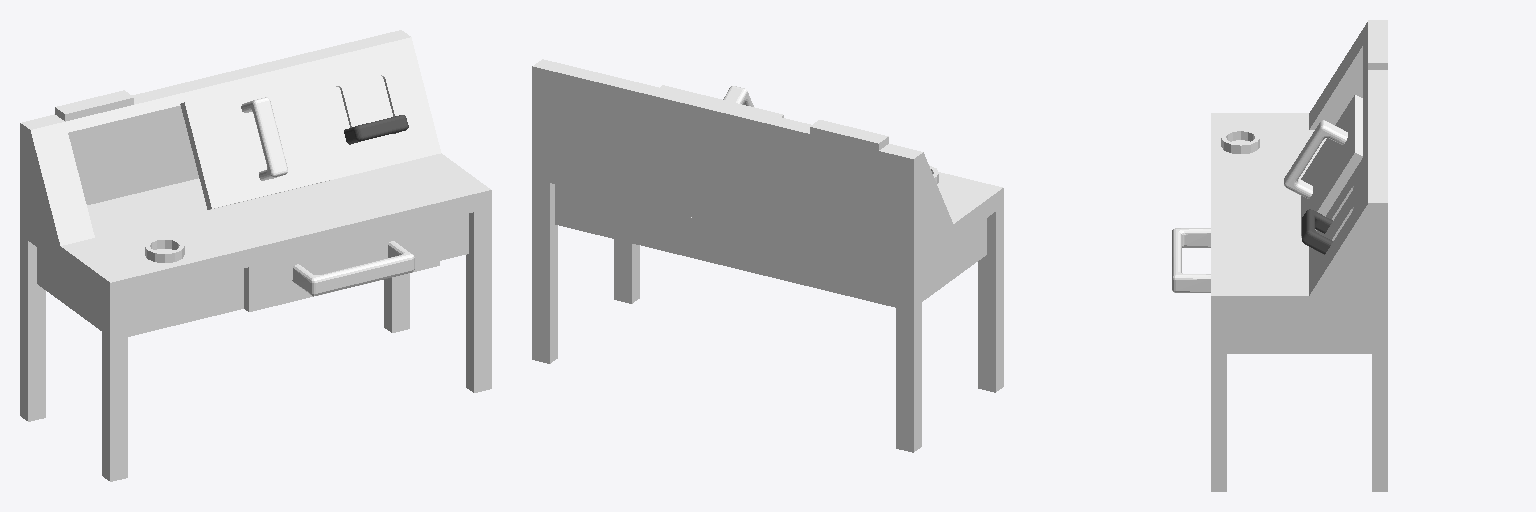
URDF robot description (playtable_7):
<?xml version="1.0" encoding="utf-8"?>
<robot
  name="playtable_7" concave="yes">
  <link
    name="base_link">
    <inertial>
      <origin
        xyz="0.00745063057322709 0.501032855485917 -0.0450543406685957"
        rpy="0 0 0" />
      <mass
        value="0.0" />
        <!-- value="46.9509300649509" -->
      <inertia
        ixx="1.52184000058477"
        ixy="-0.214863046017298"
        ixz="0.227217239283853"
        iyy="6.72628663734324"
        iyz="0.279082713309663"
        izz="6.54762965481542" />
    </inertial>
    <visual>
      <origin
        xyz="0 0 0"
        rpy="0 0 0" />
      <geometry>
        <mesh
          filename="../meshes/base_link.obj" />
      </geometry>
      <material name="white">
       <color rgba="1 1 1 1"/>
     </material>
    </visual>
    <collision concave="yes">
      <origin
        xyz="0 0 0"
        rpy="0 0 0" />
      <geometry>
        <mesh
          filename="../meshes/base_link.obj" />
      </geometry>
    </collision>
  </link>
  <link
    name="button_link">
    <inertial>
      <origin
        xyz="0 0.0149999999999999 -2.77555756156289E-17"
        rpy="0 0 0" />
      <mass
        value="0.153812376319756" />
      <inertia
        ixx="7.30608787518843E-05"
        ixy="-1.78342506783922E-37"
        ixz="0"
        iyy="0.000123049901055805"
        iyz="-3.74688824324604E-37"
        izz="7.30608787518843E-05" />
    </inertial>
    <visual>
      <origin
        xyz="0 0 0"
        rpy="0 0 0" />
      <geometry>
        <mesh
          filename="../meshes/button_link.STL" />
      </geometry>
      <material
        name="black">
        <color
          rgba="0.0 0.0 0.0 1" />
      </material>
    </visual>
    <collision>
      <origin
        xyz="0 0 0"
        rpy="0 0 0" />
      <geometry>
        <mesh
          filename="../meshes/button_link.STL" />
      </geometry>
    </collision>
  </link>
  <joint
    name="base__button"
    type="prismatic">
    <origin
      xyz="-0.35 -0.15 0.575"
      rpy="1.5708 0 0" />
    <parent
      link="base_link" />
    <child
      link="button_link" />
    <axis
      xyz="0 -1 0" />
    <limit
      lower="0"
      upper="0.025"
      effort="0"
      velocity="0" />
  </joint>
  <link
    name="switch_link">
    <inertial>
      <origin
        xyz="0 0.0501954388893268 -0.01"
        rpy="0 0 0" />
      <mass
        value="0.238786703751891" />
      <inertia
        ixx="0.000149903694690068"
        ixy="3.28770495998159E-20"
        ixz="-5.1773084532825E-21"
        iyy="0.000673716537106872"
        iyz="2.98155597433514E-19"
        izz="0.000767827685519096" />
    </inertial>
    <visual>
      <origin
        xyz="0 0 0"
        rpy="0 0 0" />
      <geometry>
        <mesh
          filename="../meshes/switch_link.obj" />
      </geometry>
      <material
        name="gray">
        <color
          rgba="0.4 0.4 0.4 1" />
      </material>
    </visual>
    <collision>
      <origin
        xyz="0 0 0"
        rpy="0 0 0" />
      <geometry>
        <mesh
          filename="../meshes/switch_link_vhacd2.obj" />
      </geometry>
    </collision>
  </link>
  <joint
    name="base__switch"
    type="prismatic">
    <origin
      xyz="0.375 0.07616 0.61861"
      rpy="2.618 0 0" />
    <parent
      link="base_link" />
    <child
      link="switch_link" />
    <axis
      xyz="0 0 -1" />
    <limit
      lower="0"
      upper="0.11"
      effort="0"
      velocity="0" />
  </joint>
  <link
    name="slide_link">
    <inertial>
      <origin
        xyz="-0.175 -1.11022302462516E-16 0.0204147302446787"
        rpy="0 0 0" />
      <mass
        value="1.54349139995684" />
      <inertia
        ixx="0.0102407243866408"
        ixy="-4.48575347047733E-19"
        ixz="6.96428867235757E-21"
        iyy="0.0146074020666347"
        iyz="-2.34187669256869E-17"
        izz="0.0232176606837711" />
    </inertial>
    <visual>
      <origin
        xyz="0 0 0"
        rpy="0 0 0" />
      <geometry>
        <mesh
          filename="../meshes/slide_link.obj" />
      </geometry>
      <material name="white">
       <color rgba="1 1 1 1"/>
     </material>
    </visual>
    <collision>
      <origin
        xyz="0 0 0"
        rpy="0 0 0" />
      <geometry>
        <mesh
          filename="../meshes/slide_link_vhacd2.obj" />
      </geometry>
    </collision>
  </link>
  <joint
    name="base__slide"
    type="prismatic">
    <origin
      xyz="-0.125 0.09375 0.66908"
      rpy="1.0472 0 0" />
    <parent
      link="base_link" />
    <child
      link="slide_link" />
    <axis
      xyz="-1 0 0" />
    <limit
      lower="0"
      upper="0.35"
      effort="0"
      velocity="0" />
  </joint>
  <link
    name="drawer_link">
    <inertial>
      <origin
        xyz="5.55111512312578E-17 0.0331980542710631 0.0988554042464424"
        rpy="0 0 0" />
      <mass
        value="4.23128077824699" />
      <inertia
        ixx="0.059216774525043"
        ixy="-1.55846308856457E-18"
        ixz="-2.21550744838959E-18"
        iyy="0.16375258619816"
        iyz="-4.16732706455153E-05"
        izz="0.11199026473436" />
    </inertial>
    <visual>
      <origin
        xyz="0 0 0"
        rpy="0 0 0" />
      <geometry>
        <mesh
          filename="../meshes/drawer_link.obj" />
      </geometry>
      <material name="white">
       <color rgba="1 1 1 1"/>
     </material>
    </visual>
    <collision>
      <origin
        xyz="0 0 0"
        rpy="0 0 0" />
      <geometry>
        <mesh
          filename="../meshes/drawer_link_vhacd2.obj" />
      </geometry>
    </collision>
  </link>
  <joint
    name="base__drawer"
    type="prismatic">
    <origin
      xyz="0.125 0 0.4"
      rpy="1.5708 0 0" />
    <parent
      link="base_link" />
    <child
      link="drawer_link" />
    <axis
      xyz="0 0 1" />
    <limit
      lower="0"
      upper="0.275"
      effort="0"
      velocity="0" />
  </joint>
  <link
    name="led_link">
    <inertial>
      <origin
        xyz="5.55111512312578E-17 0.01 0"
        rpy="0 0 0" />
      <mass
        value="0.204" />
      <inertia
        ixx="4.93E-05"
        ixy="-4.05952398432885E-21"
        ixz="1.06441548283764E-20"
        iyy="0.000722500000000001"
        iyz="4.27379440245252E-37"
        izz="0.000686800000000001" />
    </inertial>
    <visual>
      <origin
        xyz="0 0 0"
        rpy="0 0 0" />
      <geometry>
        <mesh
          filename="../meshes/led_link.STL" />
      </geometry>
      <material
        name="white">
        <color
          rgba="1 1 1 1" />
      </material>
    </visual>
    <collision>
      <origin
        xyz="0 0 0"
        rpy="0 0 0" />
      <geometry>
        <mesh
          filename="../meshes/led_link.STL" />
      </geometry>
    </collision>
  </link>
  <joint
    name="base__led"
    type="fixed">
    <origin
      xyz="-0.35 0.2 0.80981"
      rpy="1.5708 0 0" />
    <parent
      link="base_link" />
    <child
      link="led_link" />
    <axis
      xyz="0 0 0" />
    <limit
      lower="0"
      upper="0"
      effort="0"
      velocity="0" />
  </joint>
  <link
    name="light_link">
    <inertial>
      <origin
        xyz="0 0.0280266379242365 -0.035"
        rpy="0 0 0" />
      <mass
        value="0.173918312098126" />
      <inertia
        ixx="8.23031895831843E-05"
        ixy="1.45149564099263E-22"
        ixz="4.04382946355205E-38"
        iyy="8.738048875184E-05"
        iyz="8.02658189462509E-38"
        izz="8.23031895831843E-05" />
    </inertial>
    <visual>
      <origin
        xyz="0 0 0"
        rpy="0 0 0" />
      <geometry>
        <mesh
          filename="../meshes/light_link.STL" />
      </geometry>
      <material
        name="white">
        <color
          rgba="1 1 1 1" />
      </material>
    </visual>
    <collision>
      <origin
        xyz="0 0 0"
        rpy="0 0 0" />
      <geometry>
        <mesh
          filename="../meshes/light_link.STL" />
      </geometry>
    </collision>
  </link>
  <joint
    name="base__light"
    type="fixed">
    <origin
      xyz="0.375 0.165 0.80981"
      rpy="1.5708 0 0" />
    <parent
      link="base_link" />
    <child
      link="light_link" />
    <axis
      xyz="0 0 0" />
  </joint>
  <link
    name="plank_link">
    <inertial>
      <origin
        xyz="5.55111512312578E-17 0.0125 0"
        rpy="0 0 0" />
      <mass
        value="2.84375" />
      <inertia
        ixx="0.00740559895833334"
        ixy="9.9836950049708E-20"
        ixz="8.52905709021932E-19"
        iyy="0.107381184895833"
        iyz="1.88079096131566E-34"
        izz="0.100271809895833" />
    </inertial>
    <visual>
      <origin
        xyz="0 0 0"
        rpy="0 0 0" />
      <geometry>
        <mesh
          filename="../meshes/plank_link.obj" />
      </geometry>
      <material name="white">
       <color rgba="1 1 1 1"/>
     </material>
    </visual>
    <collision>
      <origin
        xyz="0 0 0"
        rpy="0 0 0" />
      <geometry>
        <mesh
          filename="../meshes/plank_link.obj" />
      </geometry>
    </collision>
  </link>
  <joint
    name="base__plank"
    type="fixed">
    <origin
      xyz="-0.125 0.1125 0.525"
      rpy="1.5708 0 0" />
    <parent
      link="base_link" />
    <child
      link="plank_link" />
    <axis
      xyz="0 0 0" />
  </joint>
</robot>

--- Render facts (derived) ---
3 views of the same robot in one strip: view 1: azimuth 30°, elevation 25°; view 2: azimuth 150°, elevation 25°; view 3: azimuth 270°, elevation 25° (orthographic).
Robot: playtable_7 — 8 links, 7 joints (4 prismatic, 3 fixed); root link base_link; default pose: all joints at 0.
Links seen in each view (by area): view 1: base_link, slide_link, drawer_link, plank_link, led_link, switch_link; view 2: base_link, led_link, slide_link; view 3: base_link, slide_link, drawer_link, switch_link, led_link.
Boxes of the visible links, x1,y1,x2,y2 form: base_link: (20, 30, 491, 481); slide_link: (180, 73, 332, 209); drawer_link: (244, 221, 439, 311); plank_link: (87, 178, 206, 237); led_link: (55, 90, 133, 121); switch_link: (344, 115, 408, 144); base_link: (532, 59, 1003, 452); led_link: (810, 120, 888, 150); slide_link: (660, 85, 783, 117); base_link: (1211, 20, 1387, 491); slide_link: (1284, 95, 1362, 237); drawer_link: (1172, 228, 1210, 292); switch_link: (1302, 209, 1332, 254); led_link: (1368, 30, 1387, 69).
Size in the robot's own frame: 1.1 by 0.55 by 0.8298 metres.
Meshes: 8 distinct files referenced, 6 mesh visuals loaded (1 binary STL, 5 OBJ); not drawn: 2 (reference not matched to a file when rendering).
